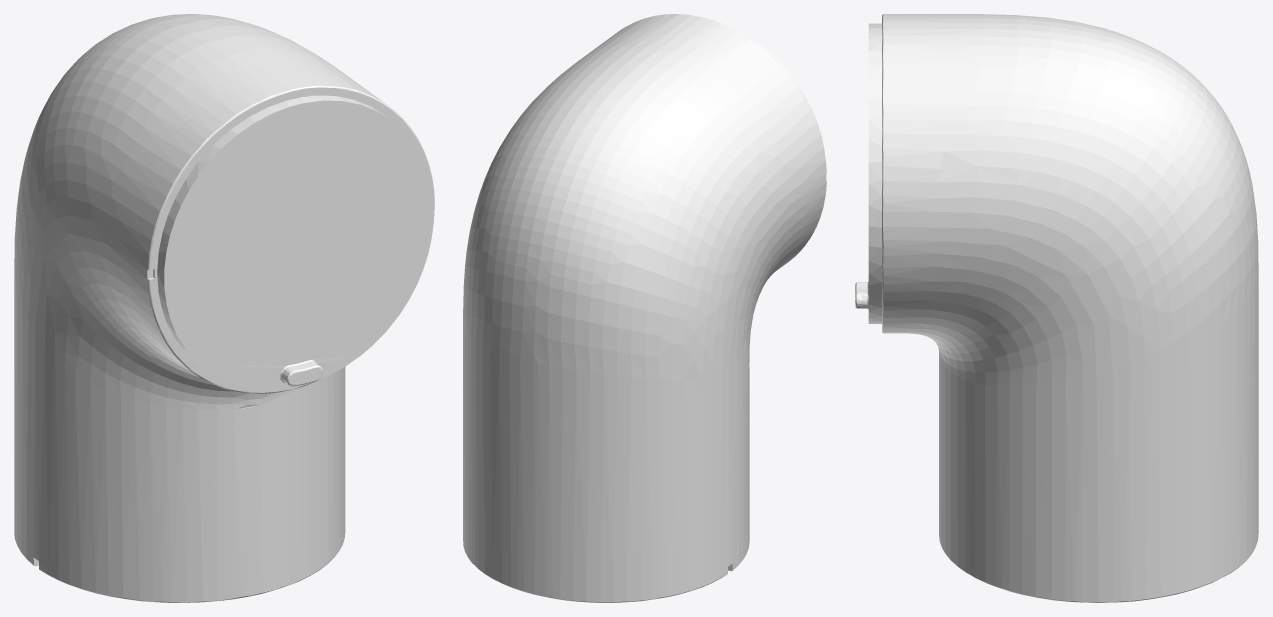
The picture shows the model from 3 angles, left to right: view 1: azimuth 30°, elevation 25°; view 2: azimuth 150°, elevation 25°; view 3: azimuth 270°, elevation 25°; orthographic projection. The views are drawn at different scales.
Visible parts, largest first — view 1: node; view 2: node; view 3: node.
Part boxes in pixels (x1,y1,x2,y2): node: [14, 14, 434, 602]; node: [463, 14, 826, 602]; node: [855, 14, 1258, 602].
Size of the model in its own units: 0.048 by 0.0871 by 0.0605.
Materials: 1 (1 with a texture image).
